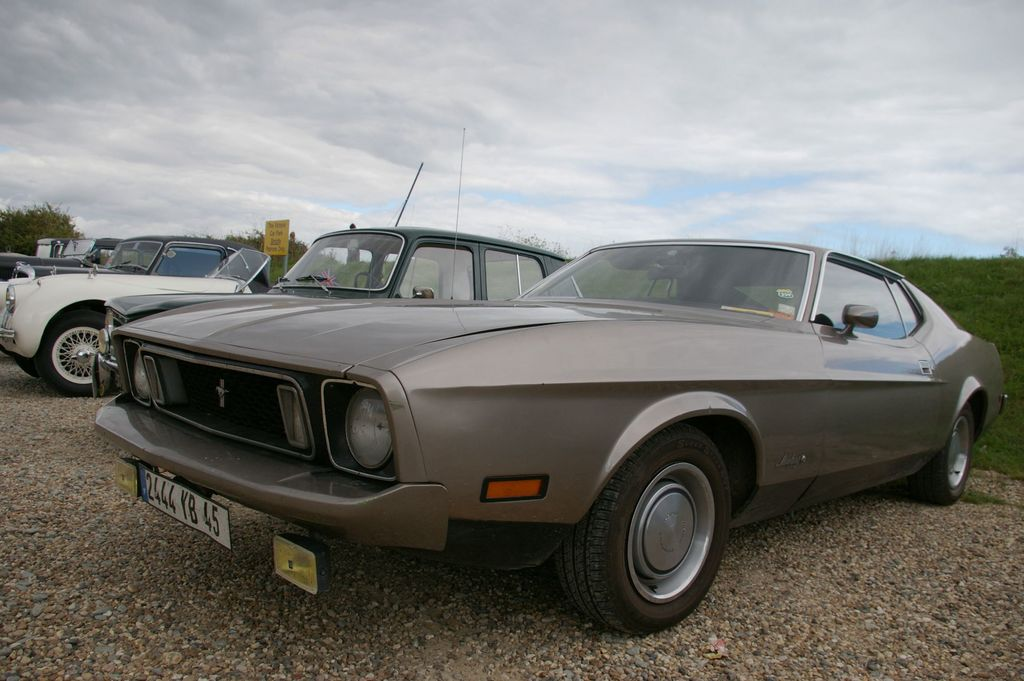Car: (0, 127, 1009, 641)
